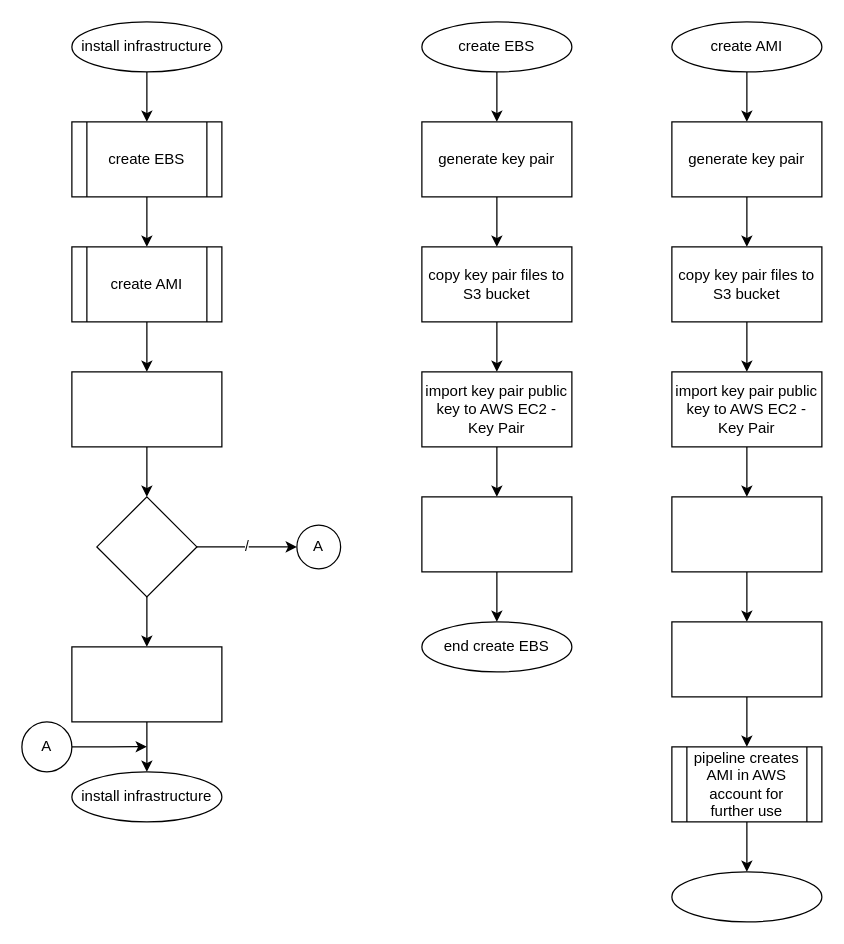
The diagram is 844 pixels wide and 944 high, and some of its shapes have lost their labels. The shapes that lost their labels are listed below. From the top down, each one's centre as x and y in pixels, then its label:
At point 146,409: "apply terraform".
At point 146,546: "replication".
At point 496,534: "run GitHub Action EBS Preparation".
At point 746,534: "create database secret in ASM".
At point 746,659: "run GitHub Action MySQL Base AMI or Postgres Base AMI".
At point 146,684: "add replication user and set up database to replicate".
At point 746,896: "end create AMI".
